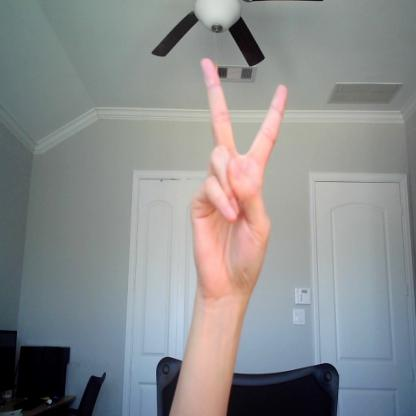V: (186, 57, 290, 299)
